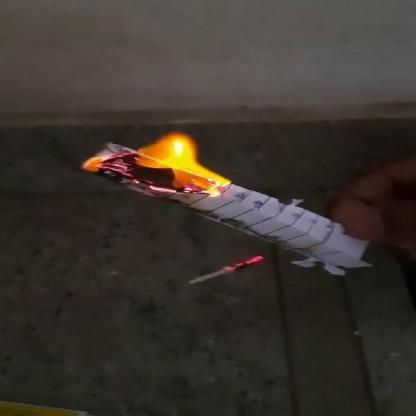Fire: (89, 119, 236, 224)
